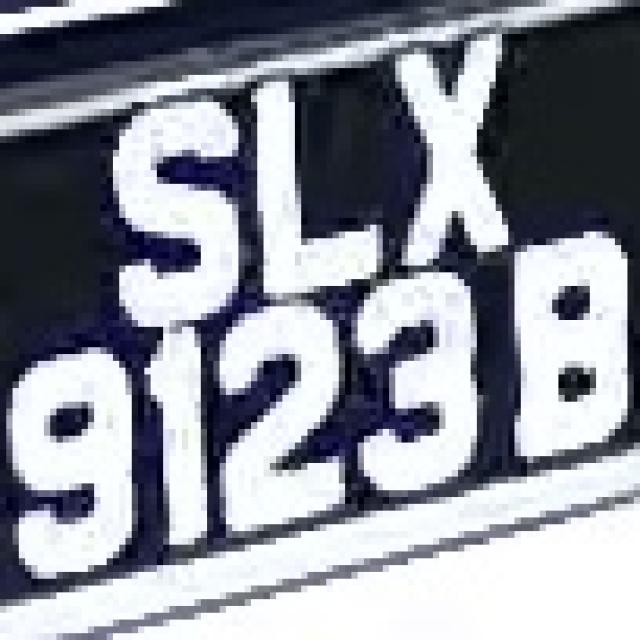1: (157, 293, 219, 551)
2: (201, 300, 364, 544)
3: (345, 258, 490, 511)
9: (12, 341, 150, 599)
B: (502, 204, 627, 483)
L: (214, 61, 402, 306)
S: (100, 88, 251, 340)
X: (376, 27, 521, 279)
